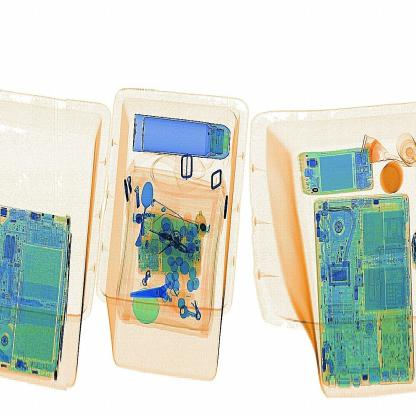gun: (127, 270, 195, 319)
